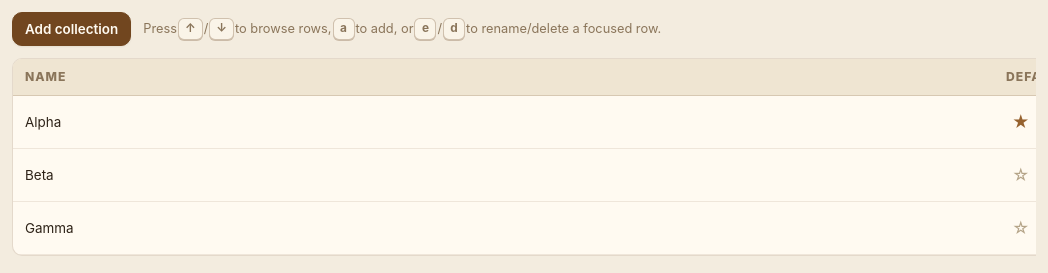
Test case: NamedRecordsTable default flag › clicking a row's star makes that row the default
Click the button named "Mark Beta as default" at point(1021, 175), box [1006,163,1036,188]
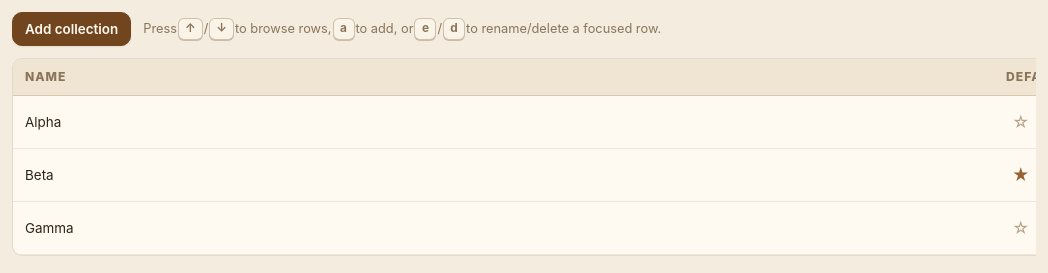
Expected: the button named "Beta is the default" is shown, [1006,163,1036,188]
Expected: the button named "Mark Alpha as default" is shown, [1006,110,1036,135]
